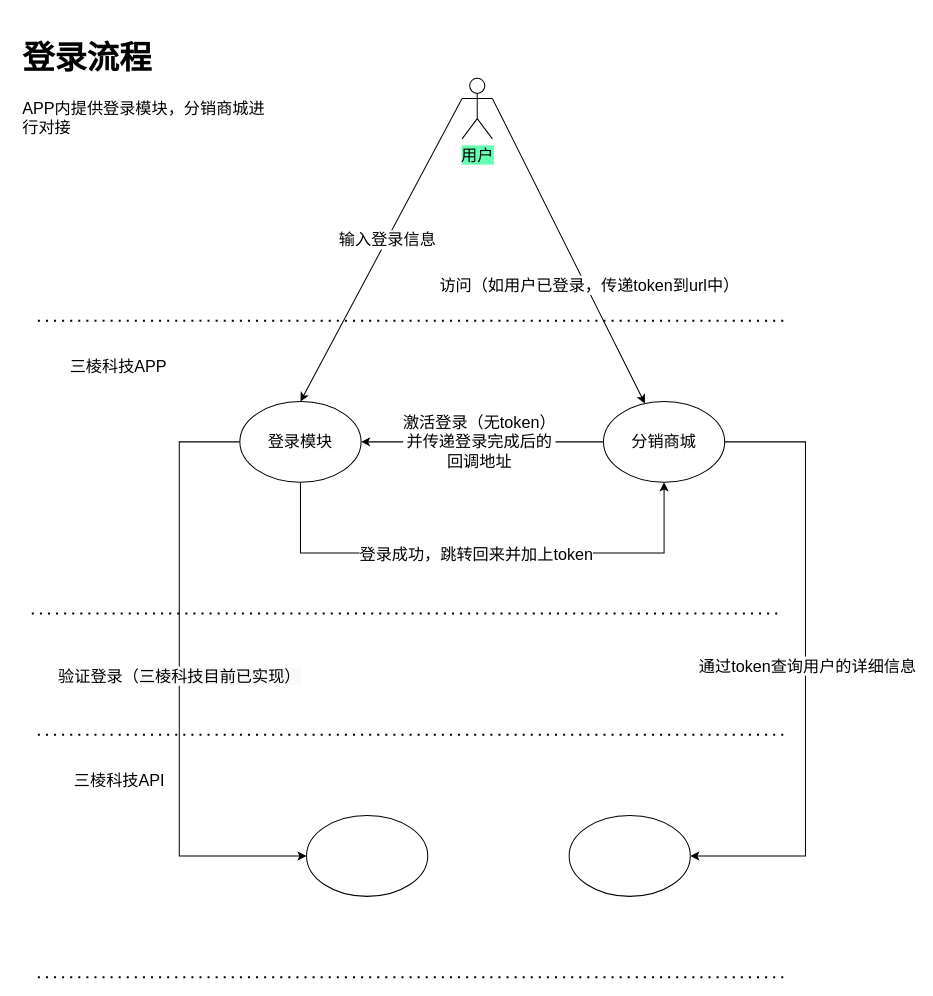
Image size: 933x996. Some labels were removed from this diagram. The shapes that lost their labels are listed below. From the top down, each one's centre as x and y in pixels, then its label:
At (x=367, y=855): "登录API".
At (x=629, y=855): "用户API".
